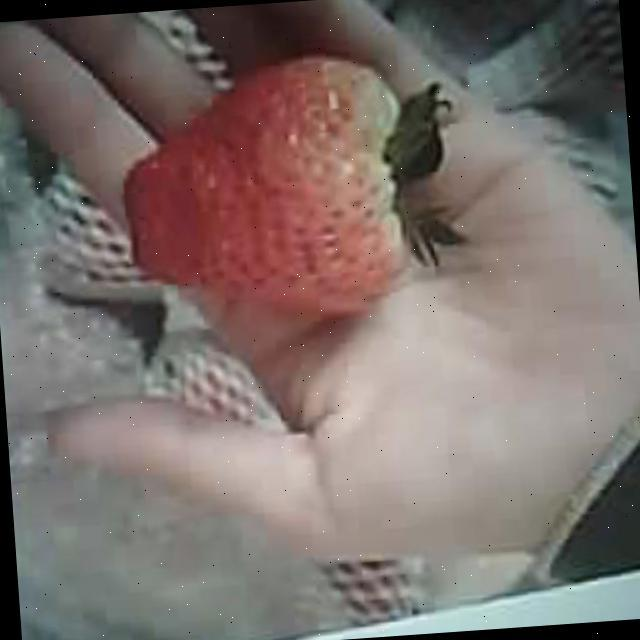ripe: (116, 47, 414, 327)
